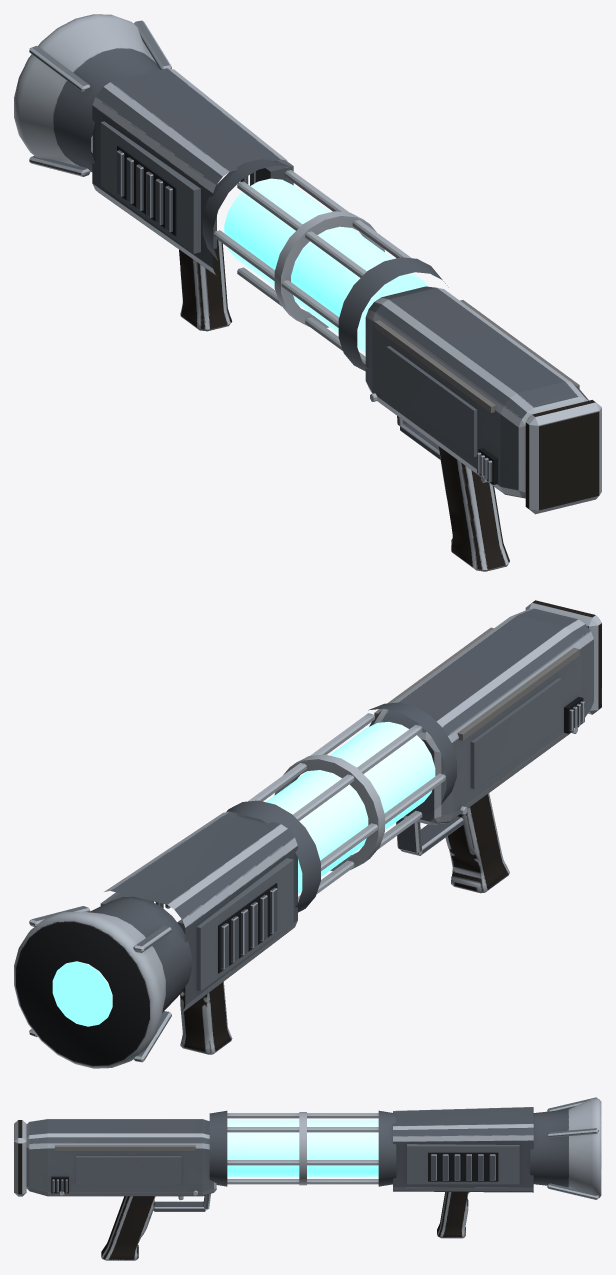
3 renders of one model, top to bottom at view 1: azimuth 30°, elevation 25°; view 2: azimuth 150°, elevation 25°; view 3: azimuth 270°, elevation 25°, orthographic. The views are drawn at different scales.
Parts seen in each view (by area): view 1: body; view 2: body; view 3: body.
Part boxes in pixels (box(x1,y1,x2,y2)): body: box(14, 14, 601, 571); body: box(14, 600, 601, 1068); body: box(14, 1097, 601, 1260).
Bounding box in the file's own units: 0.1417 × 0.2389 × 0.835.
1 material, 1 textured.
